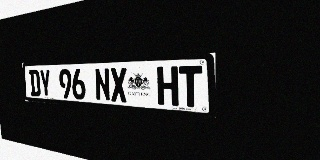6: (71, 68, 86, 100)
9: (59, 69, 72, 99)
D: (29, 70, 41, 97)
H: (157, 66, 179, 106)
N: (94, 68, 111, 101)
T: (179, 66, 203, 108)
X: (110, 67, 128, 103)
Y: (39, 69, 52, 97)
